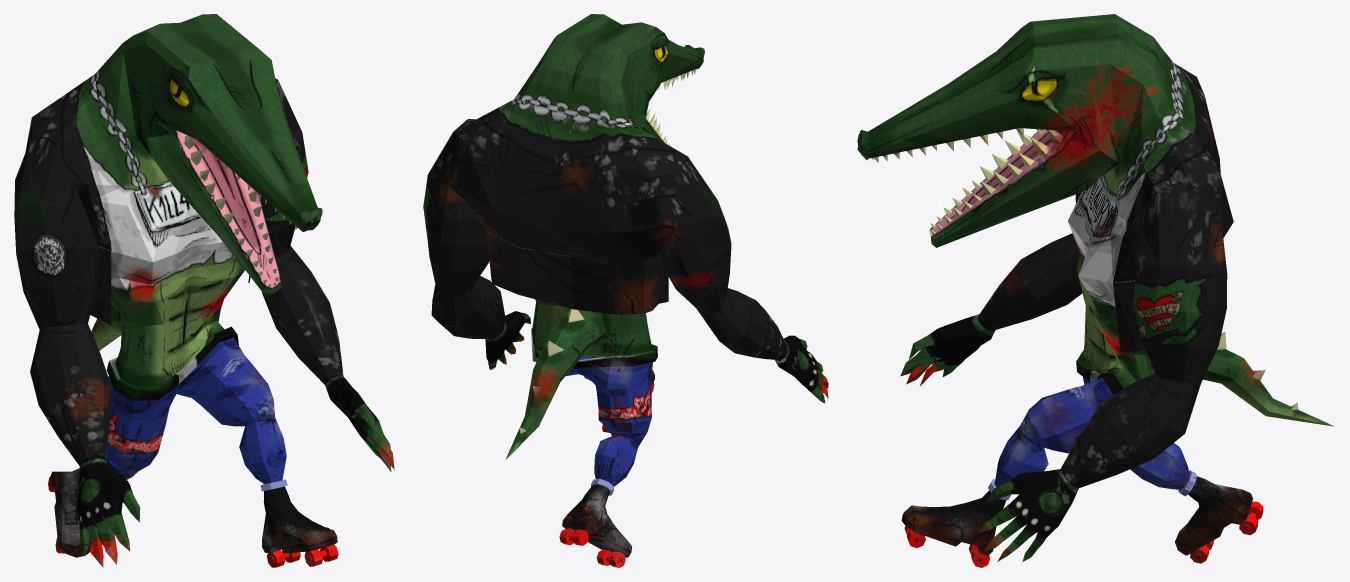
File: cocodrilaBonesSelect_000003.obj
The picture shows the model from 3 angles, left to right: view 1: azimuth 30°, elevation 25°; view 2: azimuth 150°, elevation 25°; view 3: azimuth 270°, elevation 25°; orthographic projection. The views are drawn at different scales.
Visible parts, largest first — view 1: Crocodile.002_Cylinder.002; view 2: Crocodile.002_Cylinder.002; view 3: Crocodile.002_Cylinder.002.
Part boxes in pixels (x1=…): Crocodile.002_Cylinder.002: x1=14, y1=14, x2=394, y2=567; Crocodile.002_Cylinder.002: x1=423, y1=14, x2=828, y2=567; Crocodile.002_Cylinder.002: x1=857, y1=14, x2=1334, y2=567.
Bounding box in the file's own units: 4.12 × 6.4 × 4.93.
